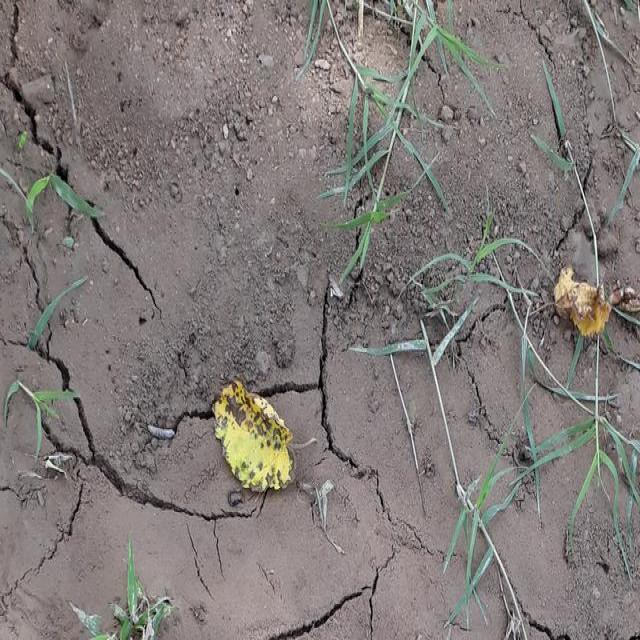weed: (312, 0, 449, 279)
